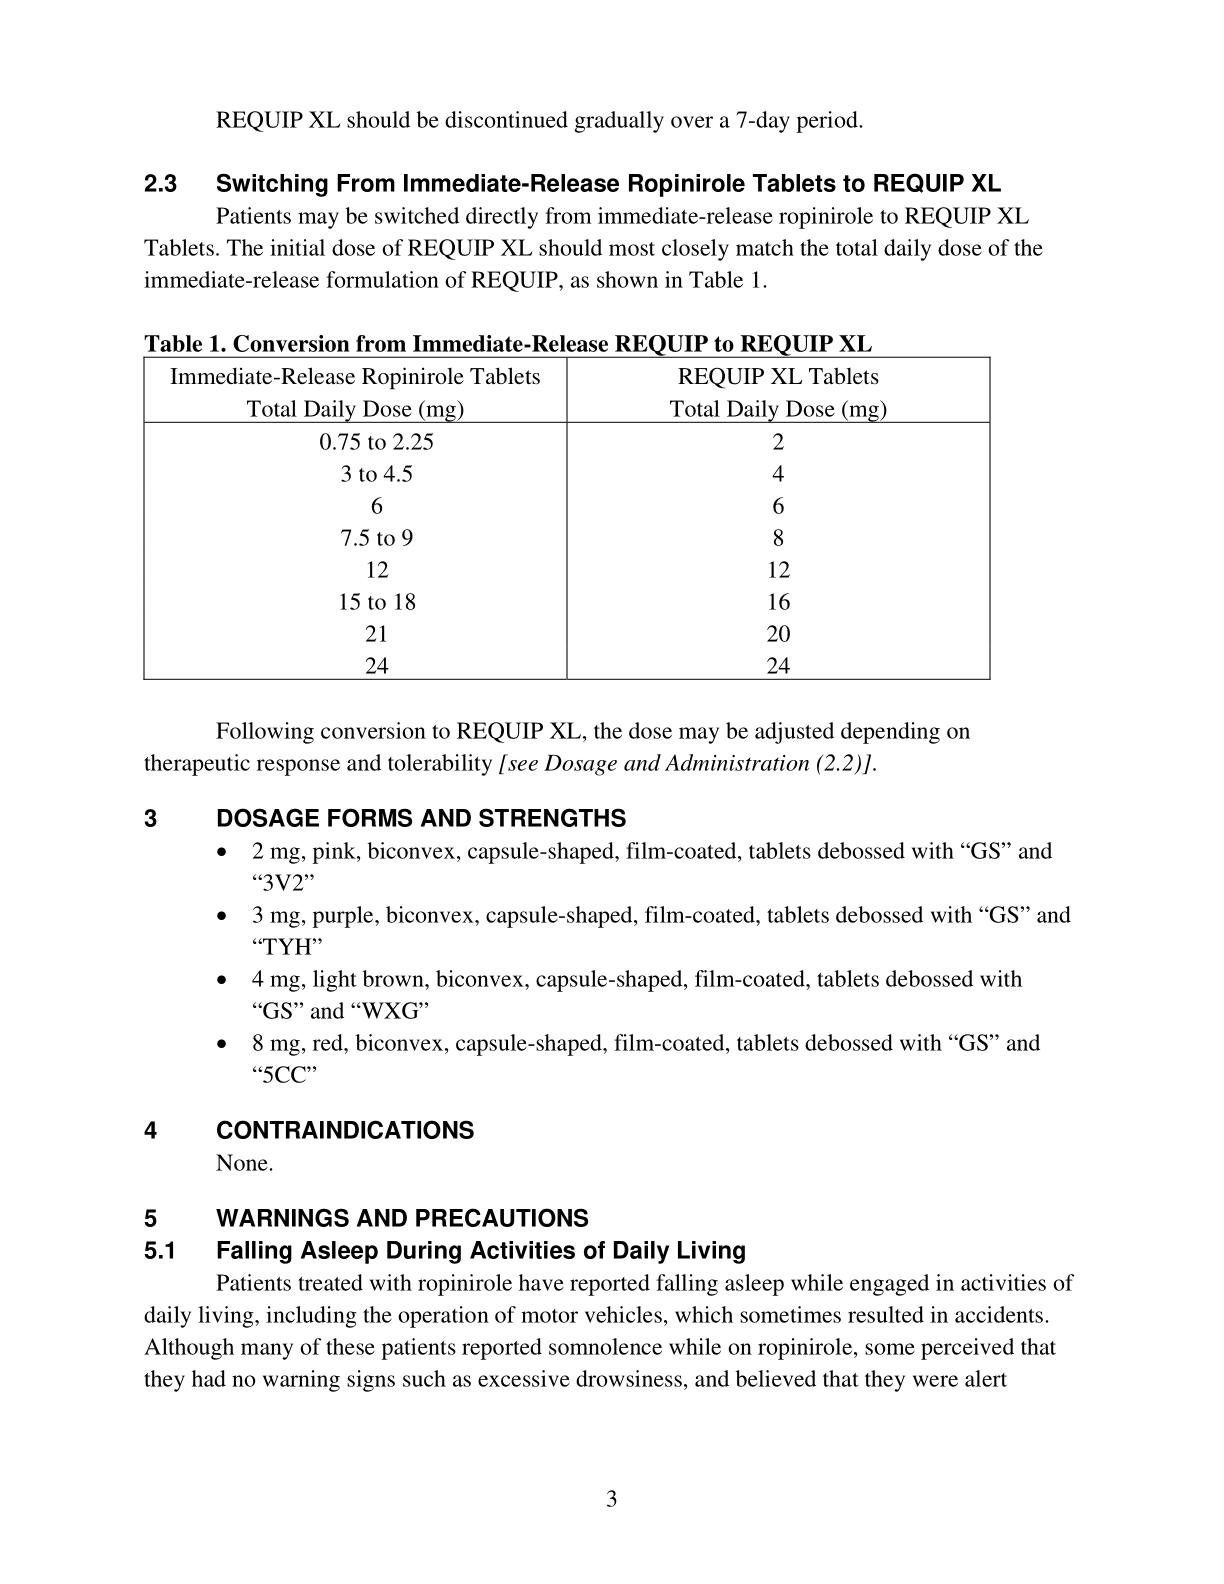partial_lined: (141, 356, 993, 681)
